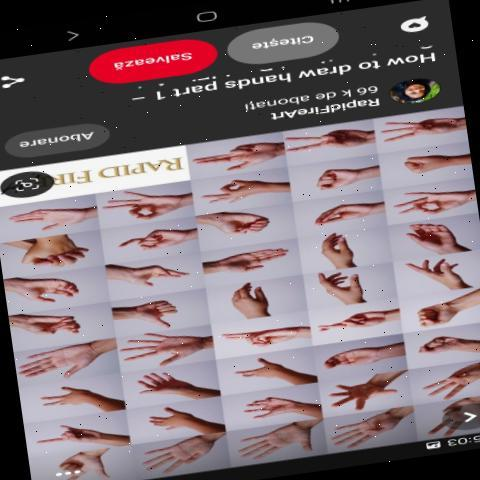Hands: (17, 345, 116, 384), (122, 327, 213, 369), (102, 257, 196, 293), (314, 340, 402, 376), (324, 412, 404, 451), (228, 426, 317, 461), (111, 298, 202, 332), (96, 189, 190, 219), (316, 376, 400, 409), (389, 222, 472, 255), (7, 202, 95, 231), (202, 250, 294, 276), (141, 445, 220, 472)
